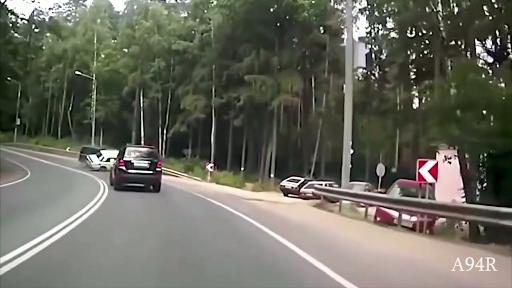Accident: (79, 144, 118, 173)
CAR: (115, 146, 164, 190), (282, 178, 326, 200)
